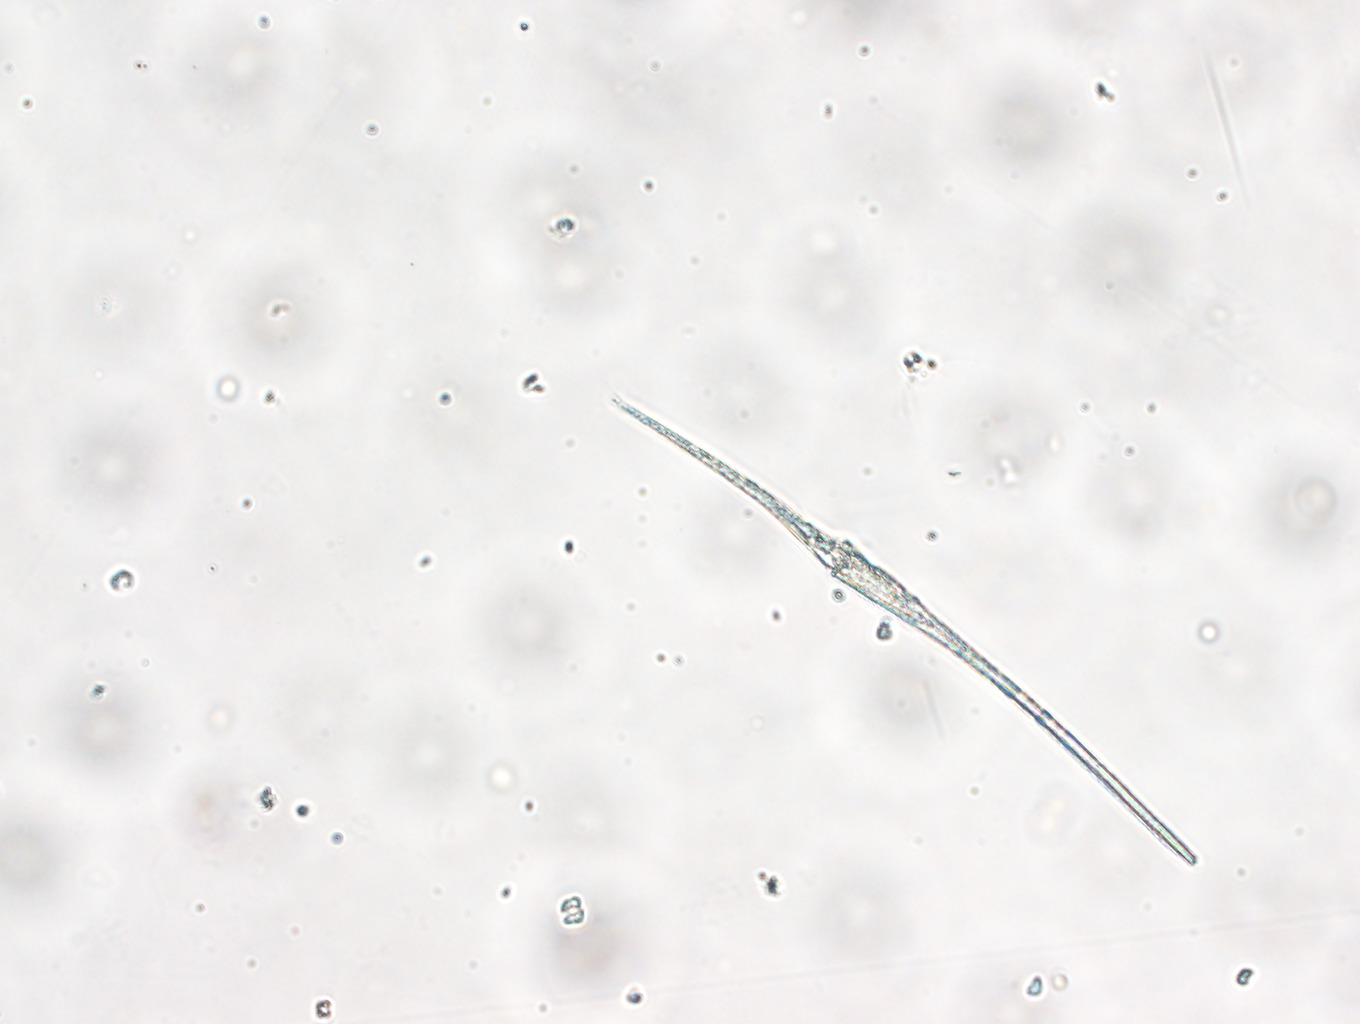ceratium fusus: (606, 394, 1205, 874)
